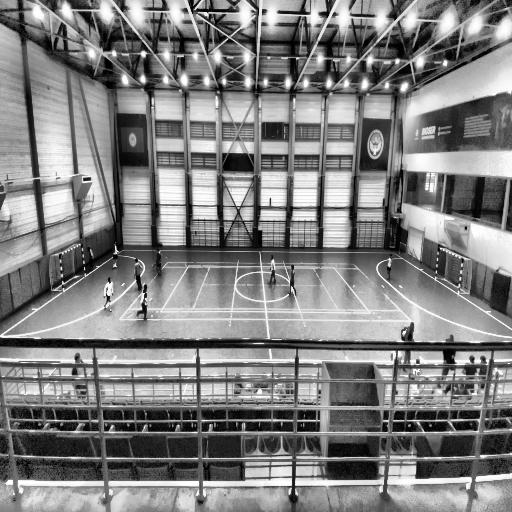ball: (400, 329, 408, 341)
player: (136, 283, 149, 320), (103, 276, 114, 313), (288, 264, 297, 298), (134, 258, 143, 290), (268, 254, 276, 286), (112, 241, 120, 269), (385, 253, 392, 281), (153, 246, 161, 270), (87, 247, 94, 270), (156, 250, 162, 276)
